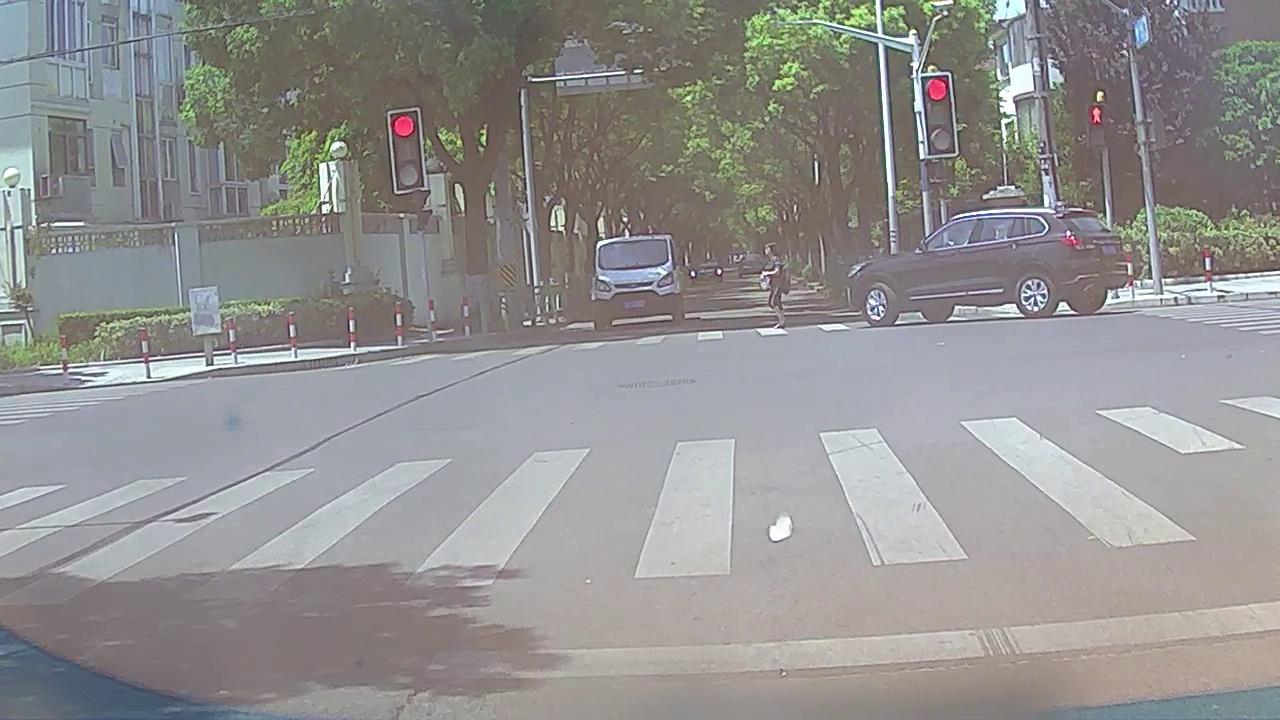traffic_light: (920, 75, 956, 155), (393, 114, 425, 191)
